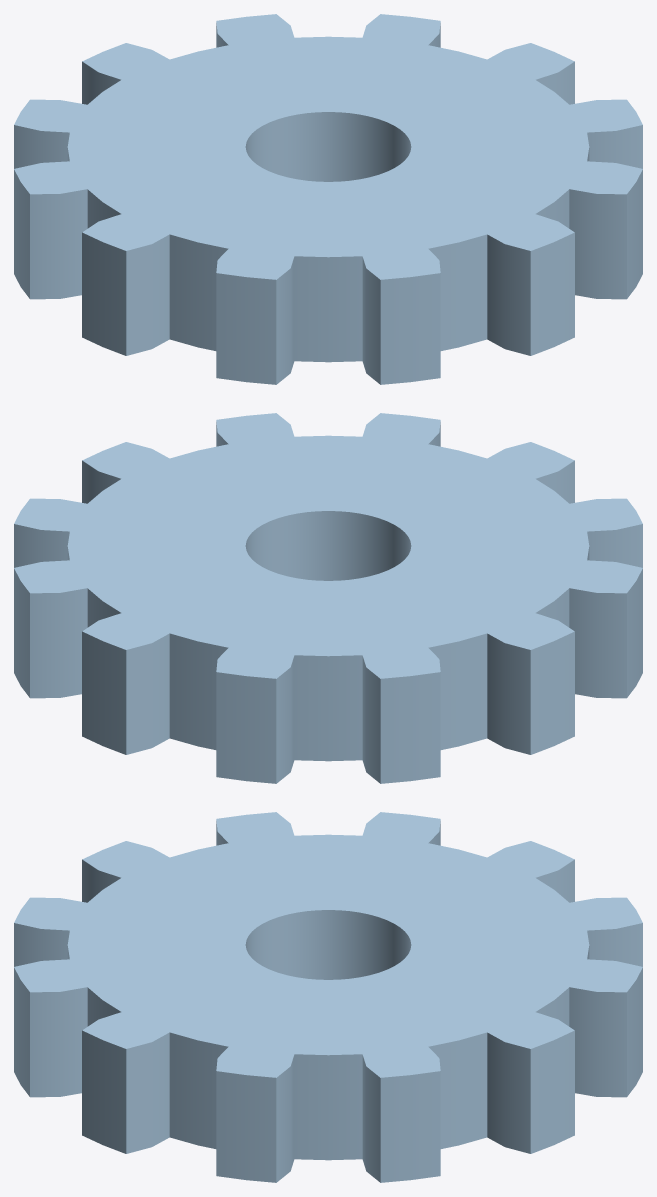
File: Gear.fbx
The picture shows the model from 3 angles, top to bottom: view 1: azimuth 30°, elevation 25°; view 2: azimuth 150°, elevation 25°; view 3: azimuth 270°, elevation 25°; orthographic projection.
Parts seen in each view (by area): view 1: Gear; view 2: Gear; view 3: Gear.
Boxes of the visible parts, x1=… form: Gear: x1=14, y1=14, x2=642, y2=384; Gear: x1=14, y1=413, x2=642, y2=783; Gear: x1=14, y1=812, x2=642, y2=1182.
Bounding box in the file's own units: 92.98 × 17.14 × 92.98.
